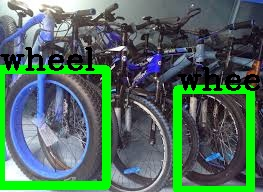wheel: (0, 69, 106, 185), (177, 89, 250, 190)
